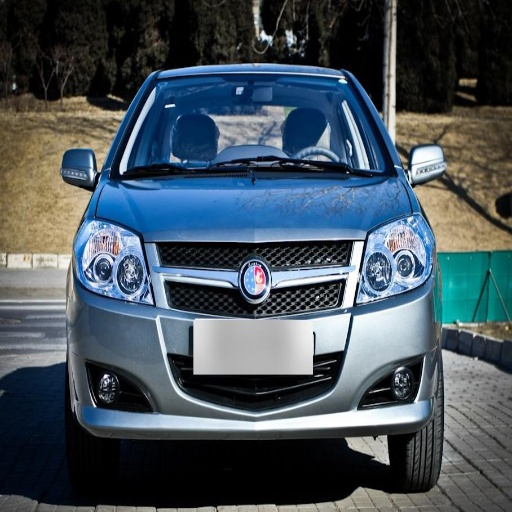front_bumper: (73, 232, 440, 437)
front_right_light: (76, 221, 153, 303)
hood: (96, 176, 412, 242)
left_mirror: (408, 144, 444, 185)
